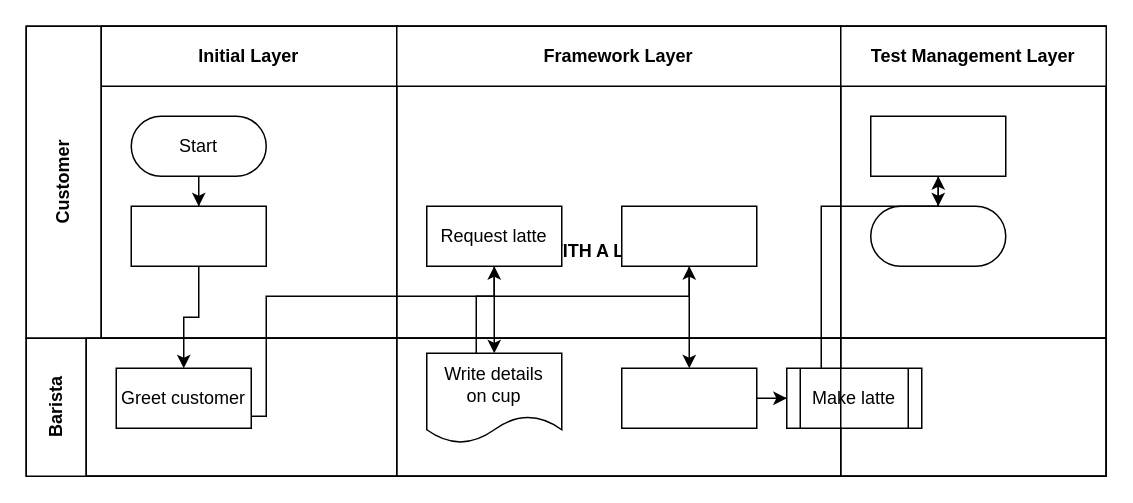
This 1133x503 diagram has some shape labels left out. The shapes that lost their labels are listed below. From the top down, each one's centre as x and y in pixels, then its label:
pixel 937 145: Drink latte
pixel 198 235: Find barista
pixel 688 235: Buy latte
pixel 937 235: End
pixel 688 397: Accept payment
